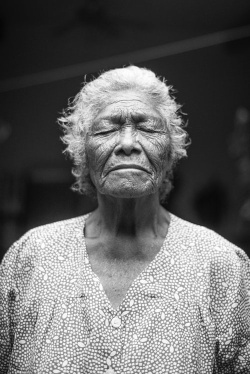female: (61, 59, 199, 212)
